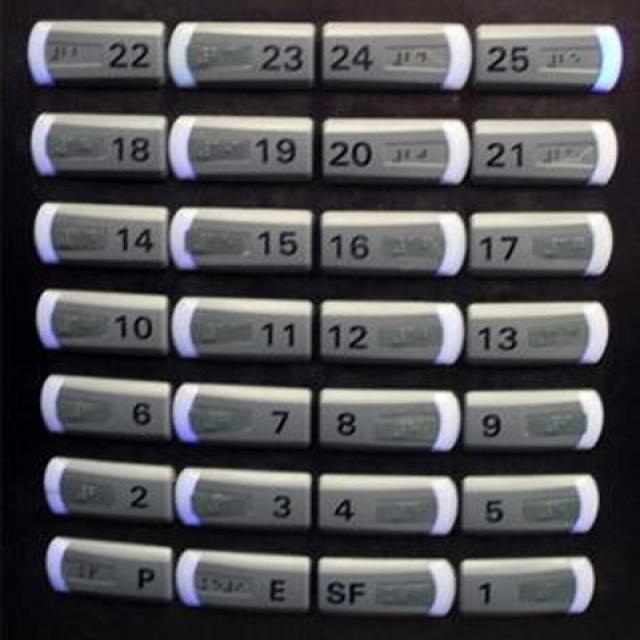1: (455, 555, 593, 619)
10: (32, 284, 171, 358)
11: (170, 292, 314, 364)
12: (313, 296, 464, 368)
13: (466, 297, 610, 369)
14: (31, 198, 170, 267)
15: (168, 202, 313, 274)
16: (313, 206, 467, 278)
17: (465, 209, 611, 278)
18: (26, 111, 170, 180)
19: (165, 109, 319, 182)
2: (40, 450, 179, 522)
20: (317, 111, 472, 187)
21: (471, 115, 617, 187)
22: (24, 18, 164, 87)
23: (164, 18, 317, 88)
24: (317, 18, 473, 92)
25: (473, 22, 624, 94)
3: (170, 463, 314, 532)
4: (314, 468, 458, 538)
5: (457, 470, 600, 536)
6: (35, 368, 176, 443)
7: (169, 380, 315, 449)
8: (314, 381, 462, 453)
9: (463, 387, 604, 453)
E: (173, 544, 312, 616)
P: (41, 532, 176, 604)
SF: (312, 552, 455, 621)
